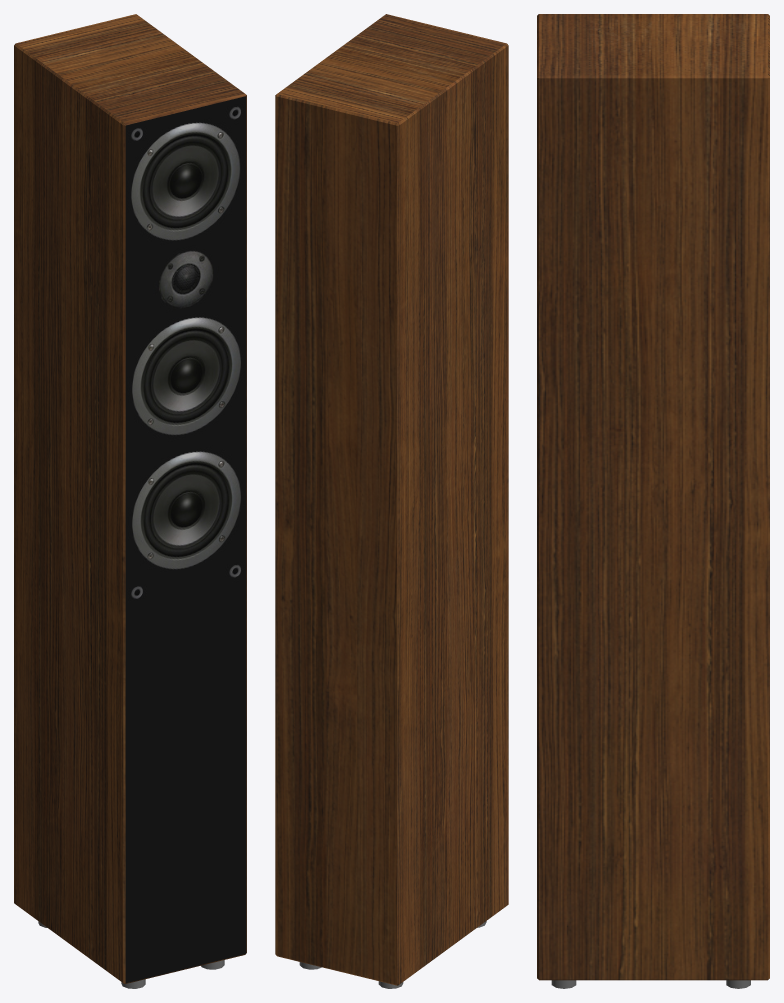
File: sound3b.FBX
The picture shows the model from 3 angles, left to right: view 1: azimuth 30°, elevation 25°; view 2: azimuth 150°, elevation 25°; view 3: azimuth 270°, elevation 25°; orthographic projection. The views are drawn at different scales.
Parts seen in each view (by area): view 1: sound3b; view 2: sound3b; view 3: sound3b.
Boxes of the visible parts, left/top/right/bottom form: sound3b: left=14, top=14, right=246, bottom=988; sound3b: left=275, top=14, right=508, bottom=988; sound3b: left=537, top=14, right=769, bottom=988.
Bounding box in the file's own units: 0.1544 × 0.2395 × 1.04.
